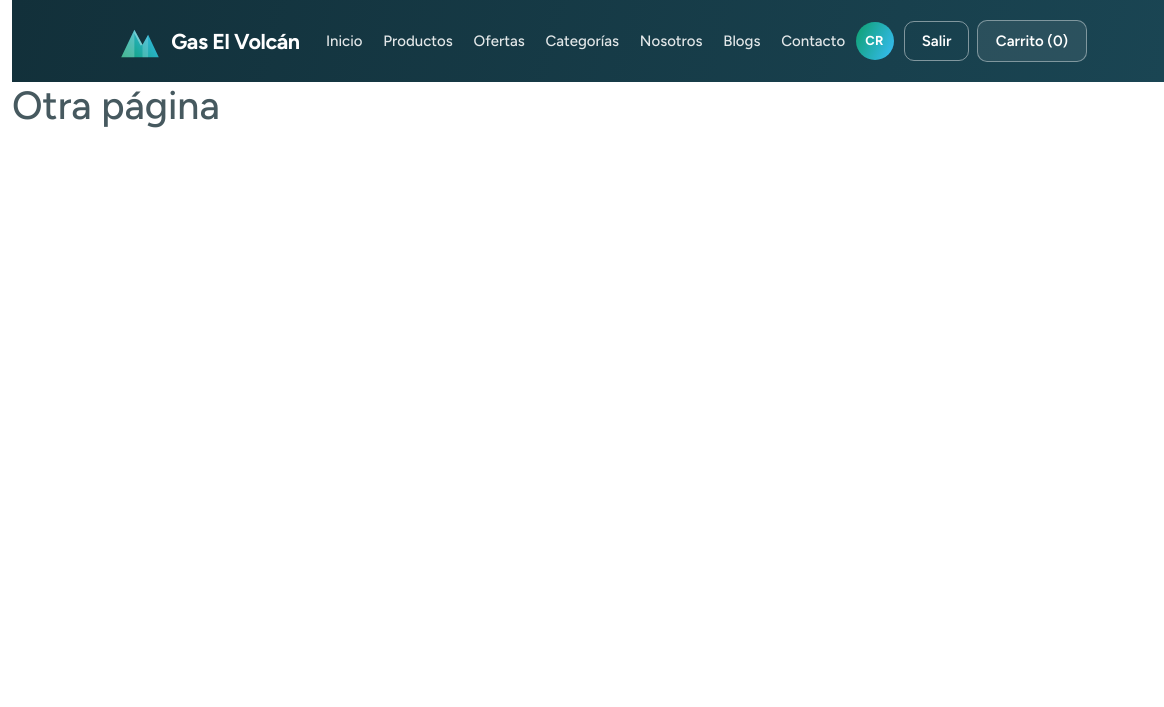
Scenario: Navbar › al salir lleva al login y se despide con el primer nombre
This screenshot has width=1164, height=707.
Step 1. Click the button "Salir" → point(937, 41), box [904, 21, 969, 61]
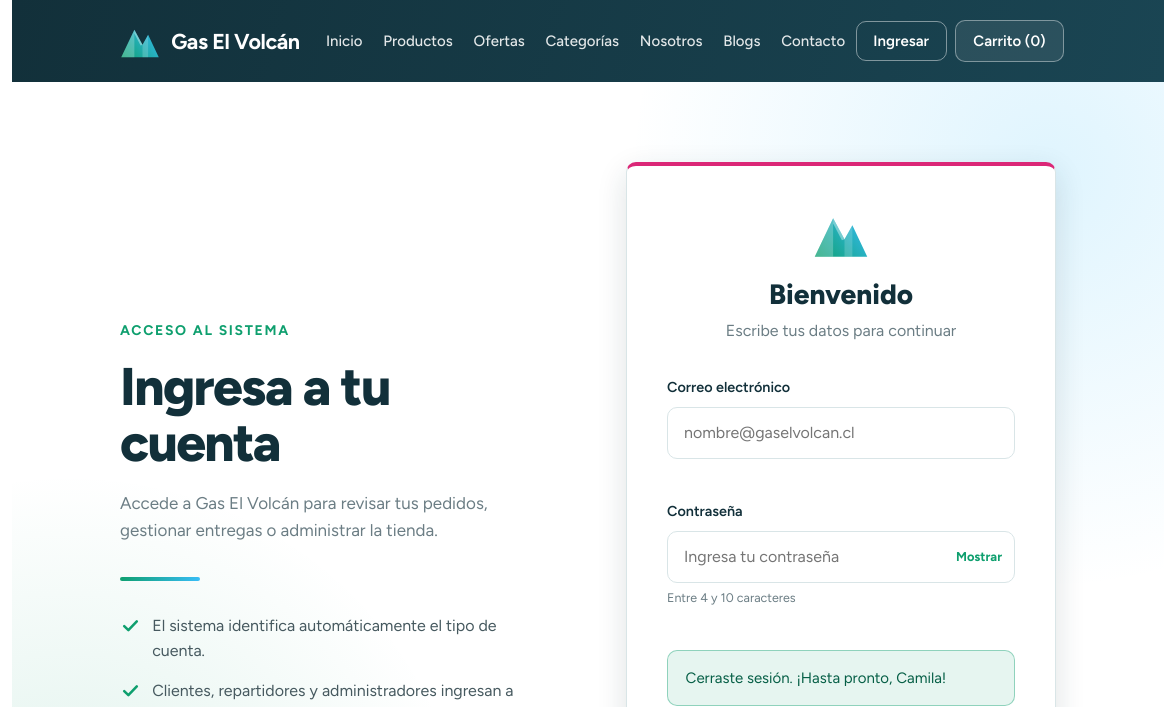
expect the heading "Ingresa a tu cuenta" is shown: met, box [120, 355, 390, 474]
